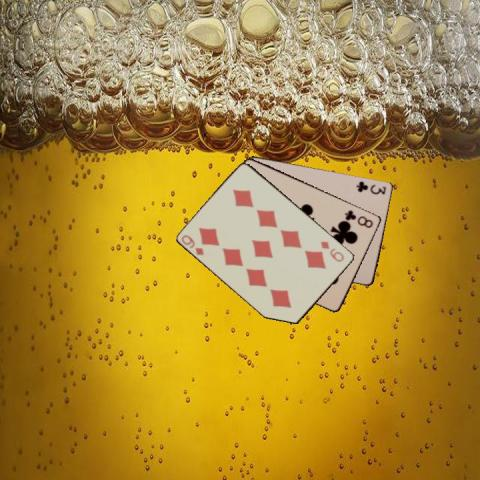3c: (354, 178, 387, 196)
8c: (342, 207, 375, 229)
9d: (317, 238, 346, 263), (179, 231, 205, 257)
